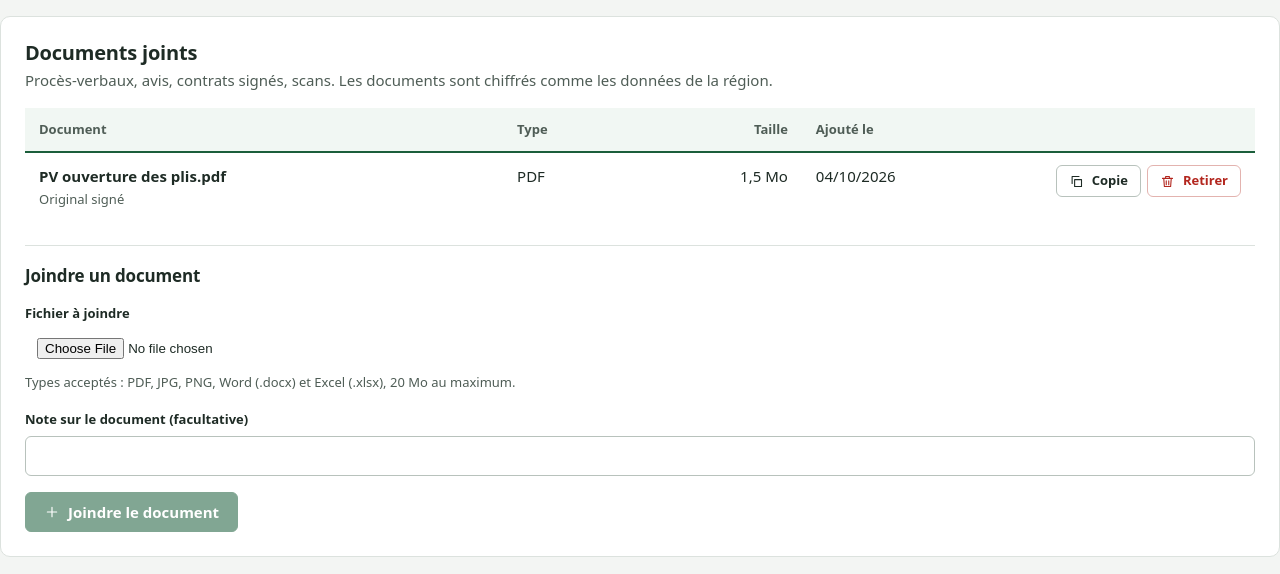
it: AttachmentsPanel › demande une confirmation avant de retirer un document
The width and height of the screenshot is (1280, 574).
What coordinates should you click on to do the following:
click the button with aria-label "Retirer le document PV ouverture des plis.pdf"
I would click on:
 (1194, 181)
Its box is [1147,165,1241,197].
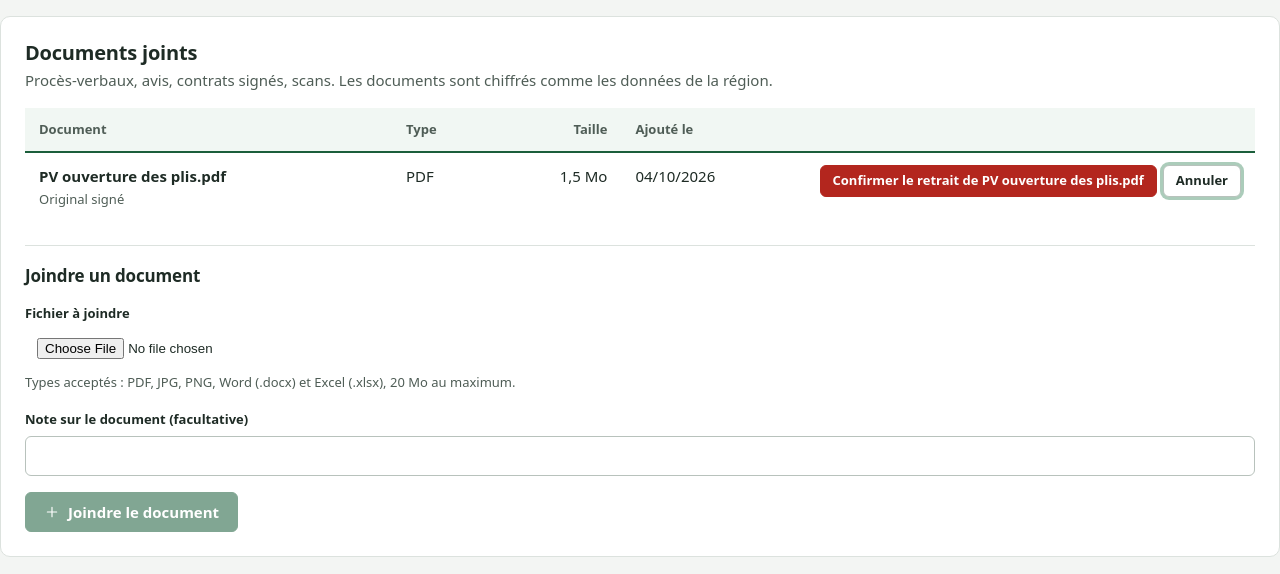
What coordinates should you click on to do the following:
click the button "Confirmer le retrait de PV ouverture des plis.pdf"
I would click on:
 (988, 181)
Its box is [820,165,1157,197].
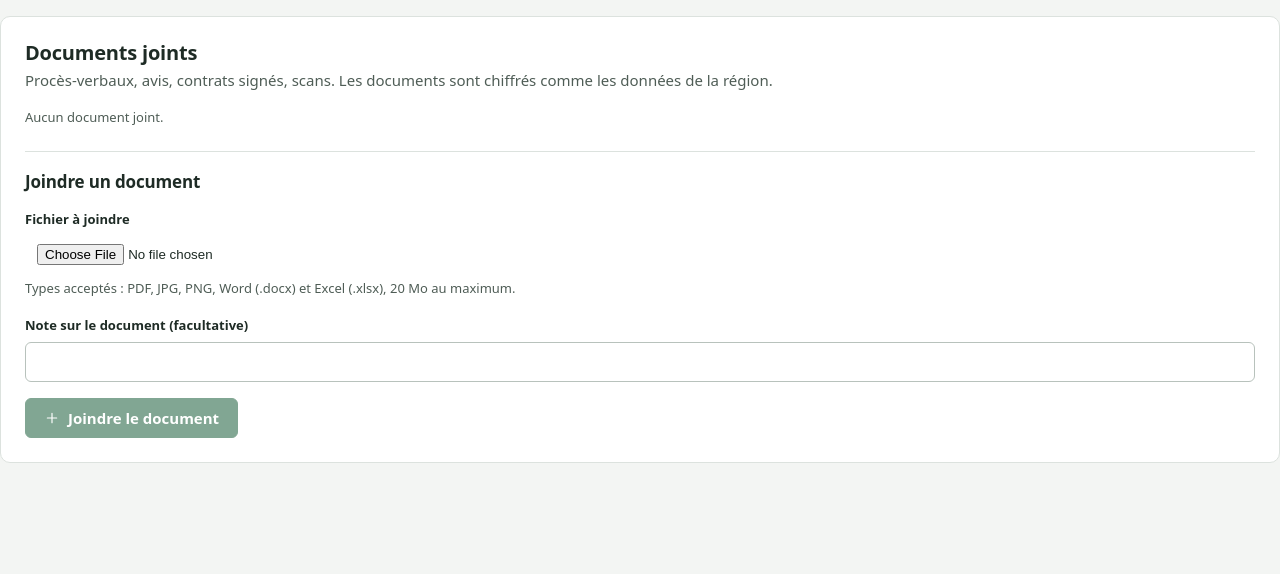
Now the text "Aucun document joint." is shown, box [25,108,164,126]
